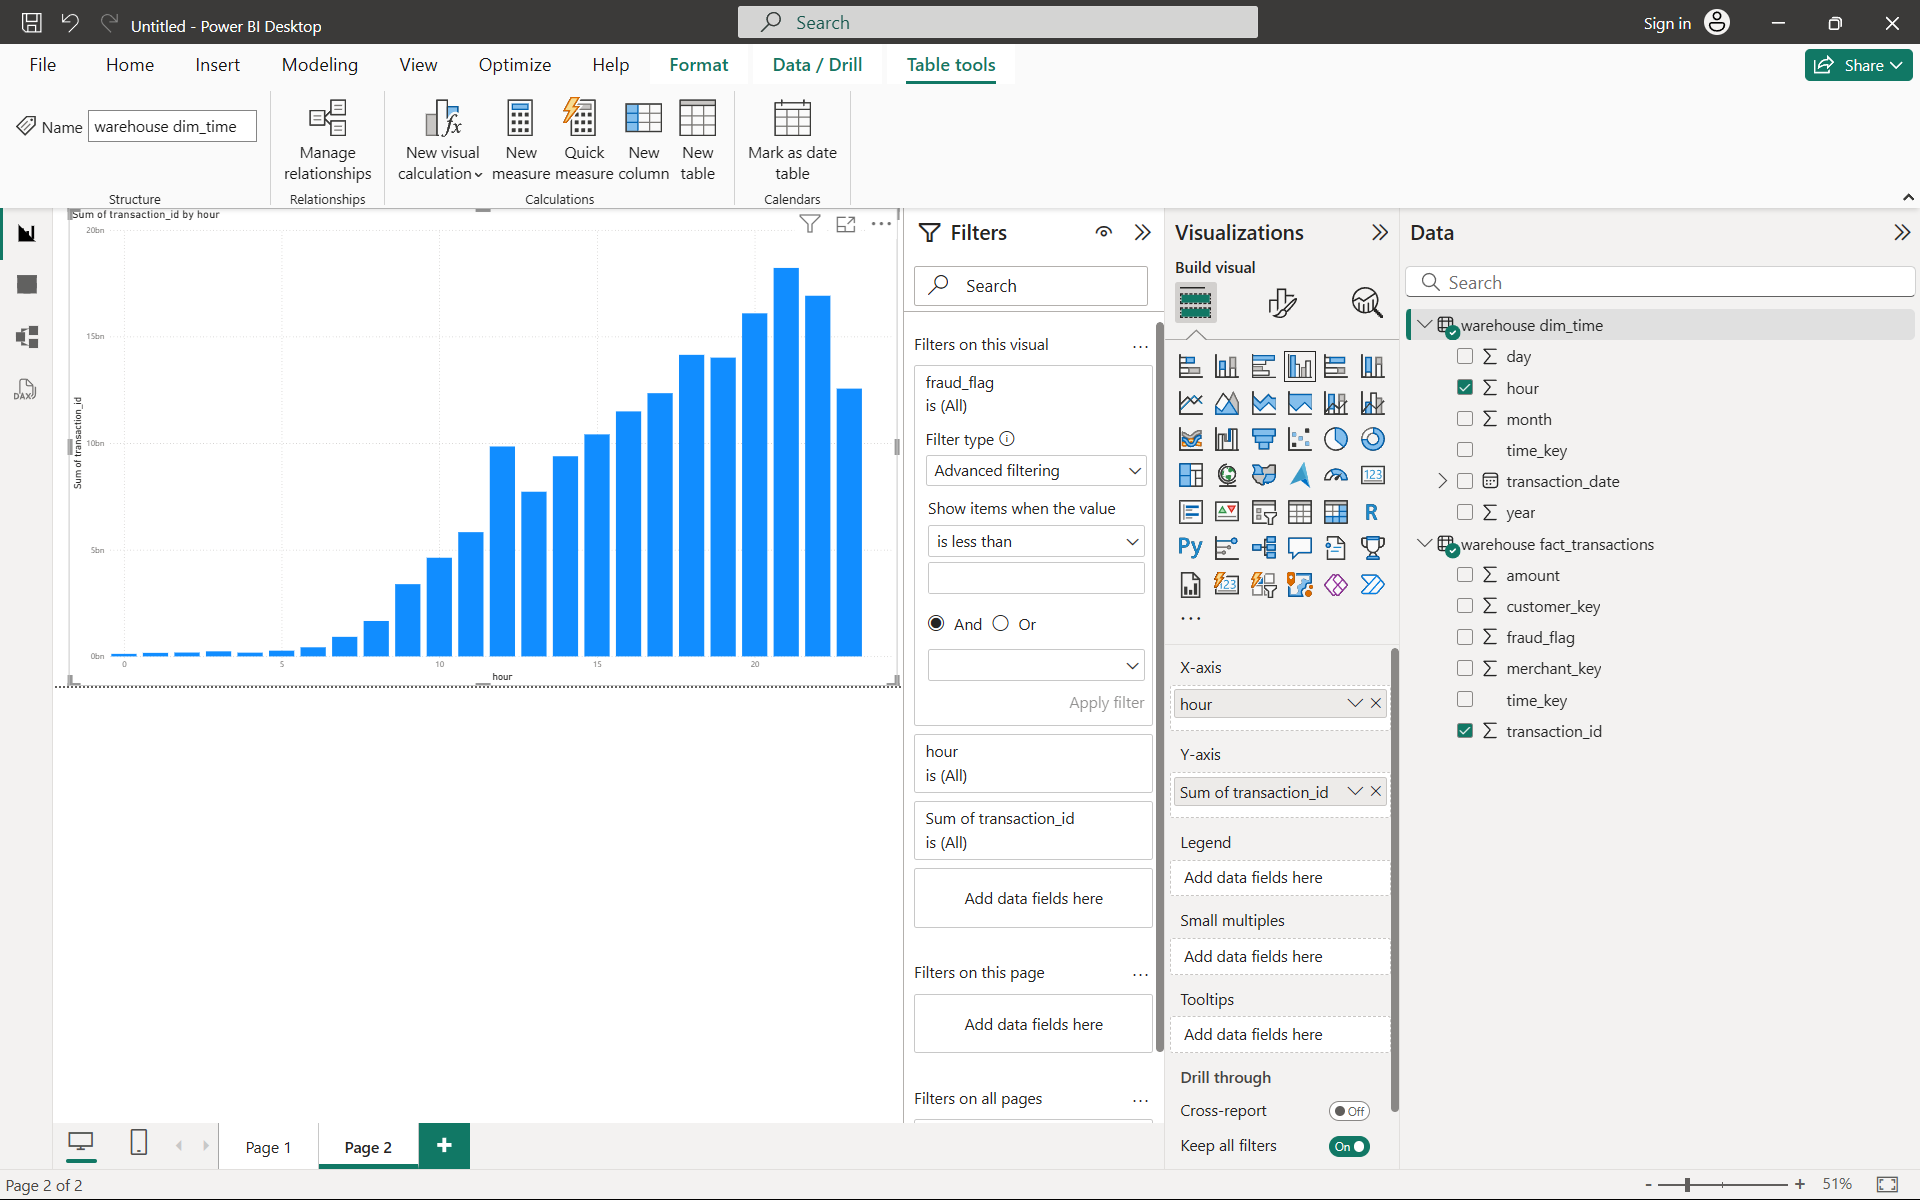

This screenshot's page, from the dashboard's own definition file:
{"tool":"powerbi","page":{"name":"Fraud Transactions by Hour","canvas":[1280,720],"ordinal":2},"visuals":[{"type":"columnChart","fields":{"Category":["warehouse dim_time.hour"],"Y":["CountNonNull(warehouse fact_transactions.transaction_id)"]},"box":[16,0,1200,720],"z":0}]}

Visuals, with their boxes on the page's 1280x720 design canvas (x1, y1, x2, y2). These are canvas units, not pixel positions in the 1920x1200 screenshot, which may show the page scaled, cropped or inside an application window:
columnChart - warehouse dim_time.hour x CountNonNull(warehouse fact_transactions.transaction_id): x1=16, y1=0, x2=1216, y2=720
